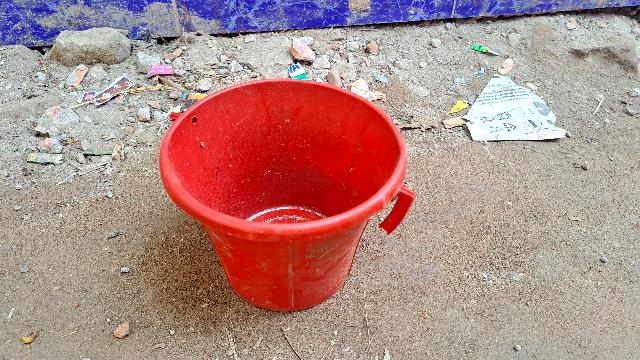hardplastic: (152, 137, 406, 301)
